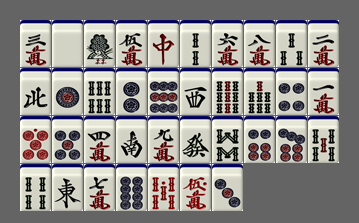0m: (180, 164, 211, 211)
0p: (20, 116, 51, 163)
0s: (148, 164, 179, 211)
1m: (308, 68, 339, 115)
1p: (52, 68, 83, 115)
1s: (84, 20, 115, 67)
1z: (52, 164, 83, 211)
2m: (308, 20, 339, 67)
2p: (116, 68, 147, 115)
2s: (180, 20, 211, 67)
2z: (116, 116, 147, 163)
3m: (20, 20, 51, 67)
3p: (212, 164, 243, 211)
3s: (276, 20, 307, 67)
3z: (180, 68, 211, 115)
4m: (84, 116, 115, 163)
4p: (276, 68, 307, 115)
4s: (20, 164, 51, 211)
4z: (20, 68, 51, 115)
5m: (116, 20, 147, 67)
5p: (52, 116, 83, 163)
5s: (308, 116, 339, 163)
5z: (52, 20, 83, 67)
6m: (212, 20, 243, 67)
6p: (244, 116, 275, 163)
6s: (84, 68, 115, 115)
6z: (180, 116, 211, 163)
7m: (84, 164, 115, 211)
7p: (276, 116, 307, 163)
7s: (244, 68, 275, 115)
7z: (148, 20, 179, 67)
8m: (244, 20, 275, 67)
8p: (116, 164, 147, 211)
8s: (212, 116, 243, 163)
9m: (148, 116, 179, 163)
9p: (148, 68, 179, 115)
9s: (212, 68, 243, 115)
